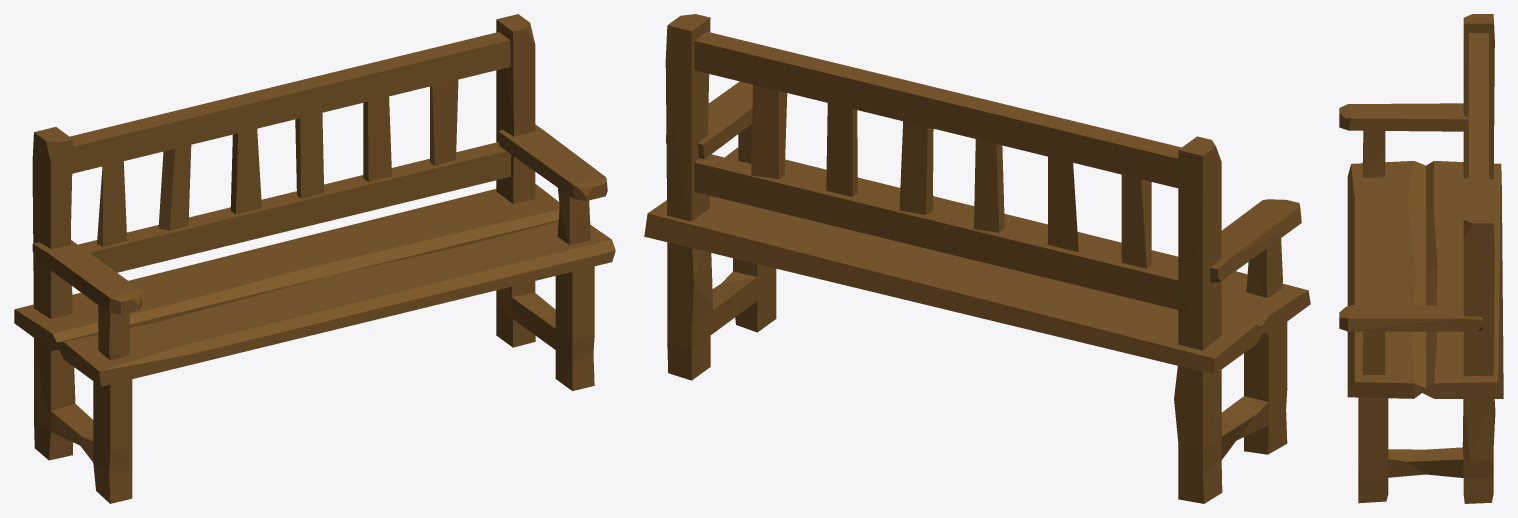
File: GardenClassicBench01.fbx
3 renders of one model, left to right at view 1: azimuth 30°, elevation 25°; view 2: azimuth 150°, elevation 25°; view 3: azimuth 270°, elevation 25°, orthographic. The views are drawn at different scales.
Parts seen in each view (by area): view 1: GardenClassicBench01; view 2: GardenClassicBench01; view 3: GardenClassicBench01.
Boxes of the visible parts, <box> form: GardenClassicBench01: <box>14,14,615,503</box>; GardenClassicBench01: <box>644,14,1310,503</box>; GardenClassicBench01: <box>1339,14,1503,503</box>.
Bounding box in the file's own units: 176 × 103 × 55.06.
